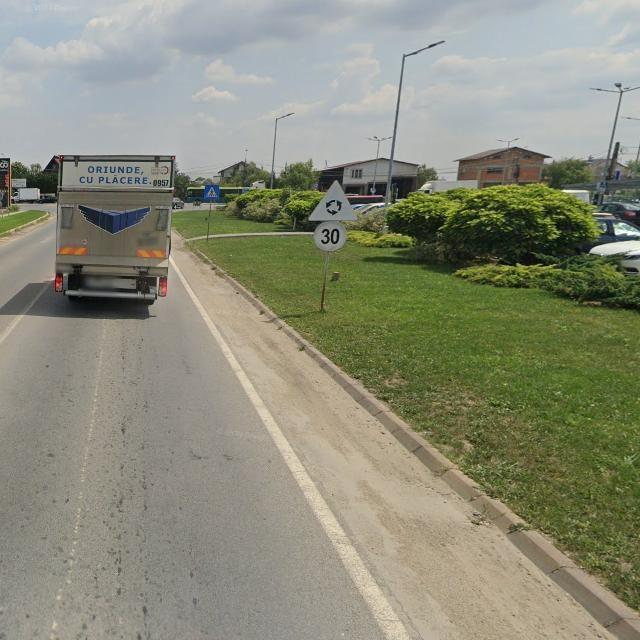forb_speed_over_30: (313, 221, 348, 252)
info_crosswalk: (204, 185, 219, 201)
